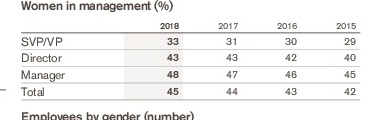table: (0, 0, 380, 120)
